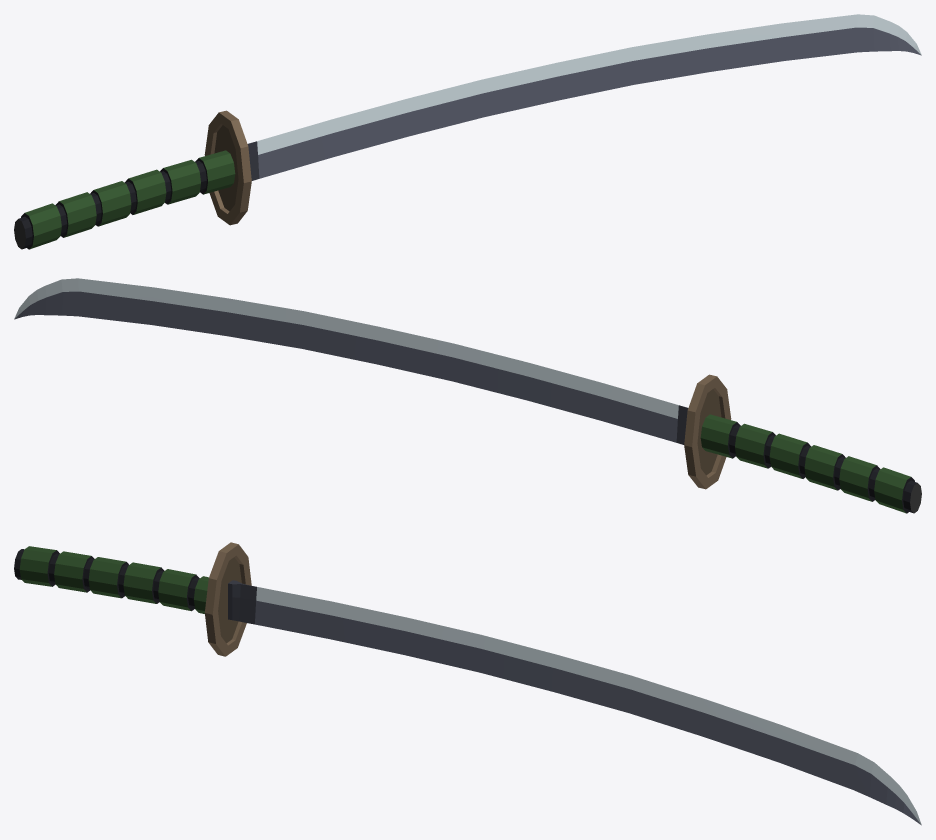
File: WaterfowlKatana.glb
3 renders of one model, top to bottom at view 1: azimuth 30°, elevation 25°; view 2: azimuth 150°, elevation 25°; view 3: azimuth 330°, elevation 25°, orthographic.
Parts seen in each view (by area): view 1: Katana; view 2: Katana; view 3: Katana.
Boxes of the visible parts, x1,y1,x2,y2 form: Katana: (14,14,921,249); Katana: (14,278,921,513); Katana: (14,542,921,825).
Bounding box in the file's own units: 1.1 × 0.1264 × 0.0823.
1 material, 1 textured.
